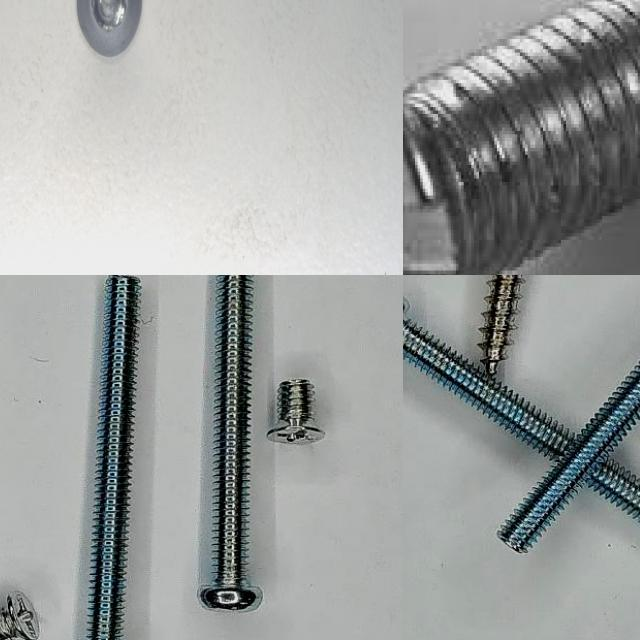Screw: (403, 0, 640, 275), (498, 363, 640, 553), (403, 318, 575, 461), (200, 275, 263, 612), (87, 275, 141, 640), (479, 275, 523, 376), (268, 379, 326, 443), (77, 0, 142, 56), (588, 460, 640, 522), (0, 593, 38, 640)
